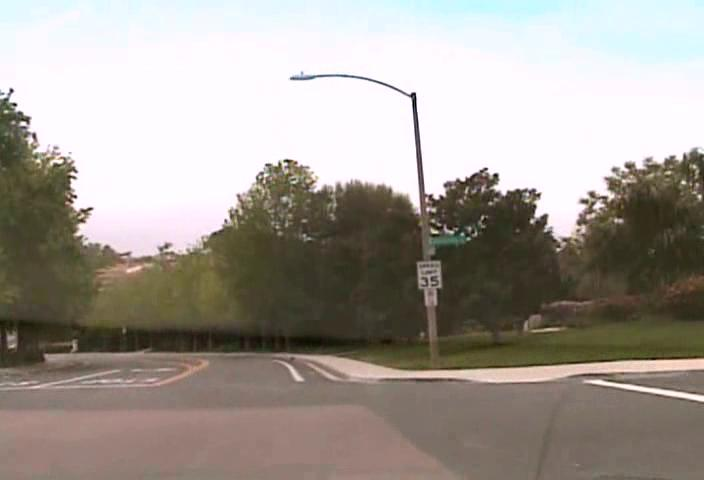speedLimit35: (416, 259, 441, 290)
